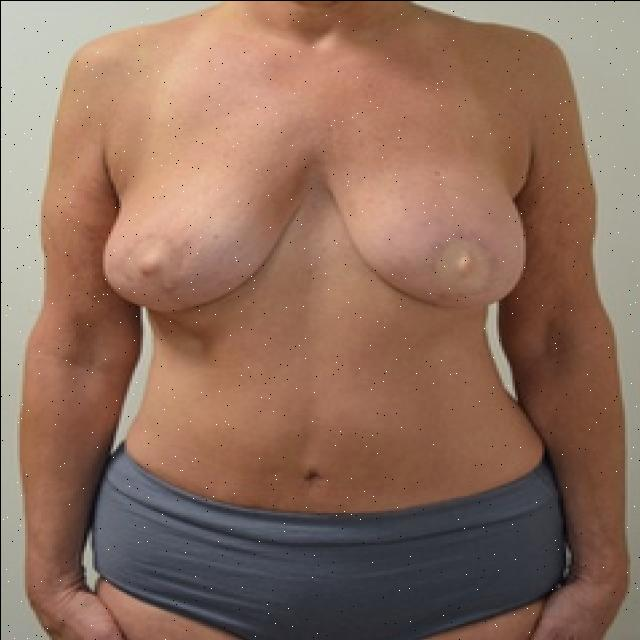Seno herido: (319, 115, 533, 318), (97, 115, 310, 318)
